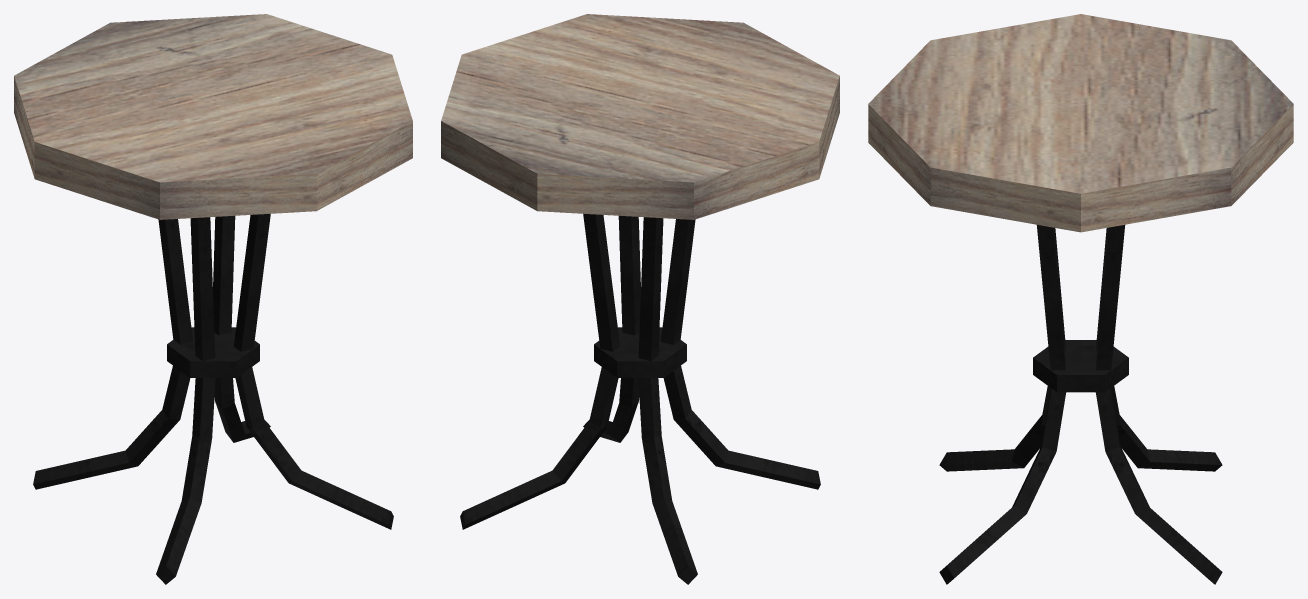
Rendered from CoffeeTable01.obj.
3 views of the same model, side by side, from view 1: azimuth 30°, elevation 25°; view 2: azimuth 150°, elevation 25°; view 3: azimuth 270°, elevation 25° (orthographic). The views are drawn at different scales.
Visible parts, largest first — view 1: CoffeeTable01; view 2: CoffeeTable01; view 3: CoffeeTable01.
Part boxes in pixels (<box>): CoffeeTable01: <box>14,14,412,584</box>; CoffeeTable01: <box>441,14,839,584</box>; CoffeeTable01: <box>868,14,1293,584</box>.
Size of the model in its own units: 1 by 1.1 by 1.
